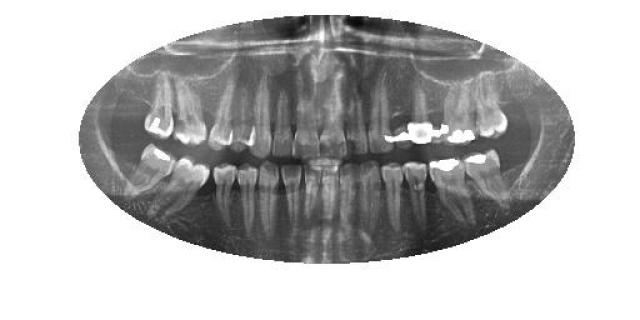Fillings: (425, 156, 475, 225), (121, 142, 175, 200), (465, 149, 513, 210), (440, 77, 478, 145), (144, 73, 175, 138), (408, 84, 432, 146)
